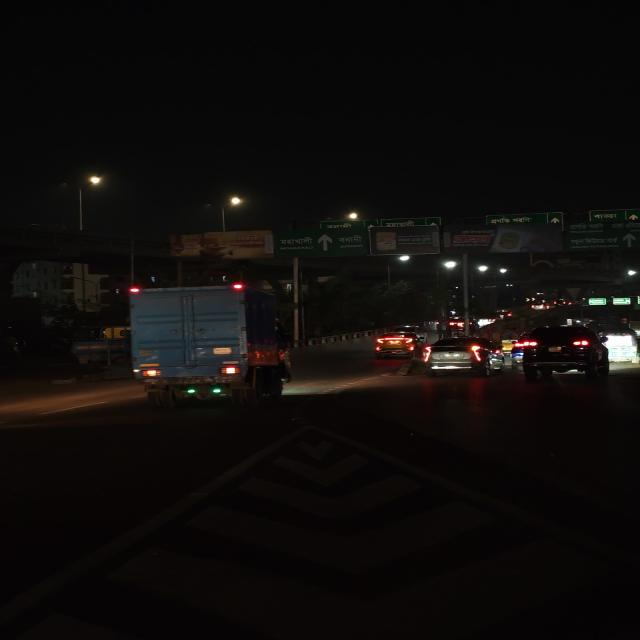car: (517, 324, 612, 377), (419, 336, 505, 376), (370, 327, 423, 359)
truck: (123, 284, 300, 410)
